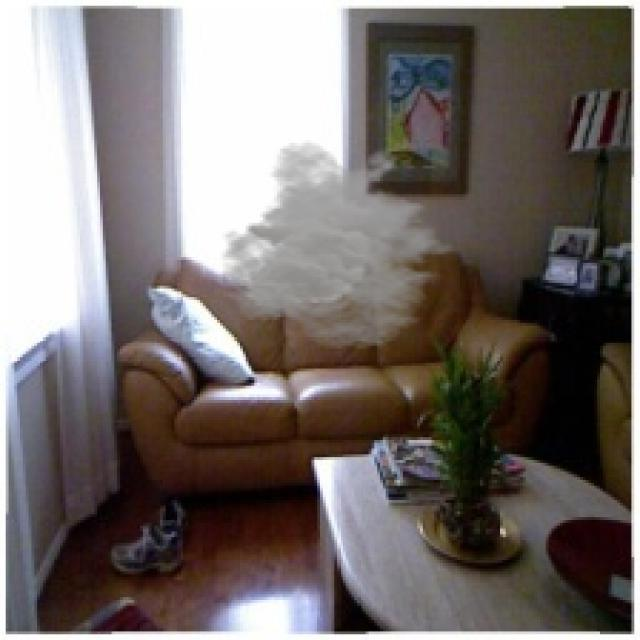Smoke: (211, 140, 463, 352)
